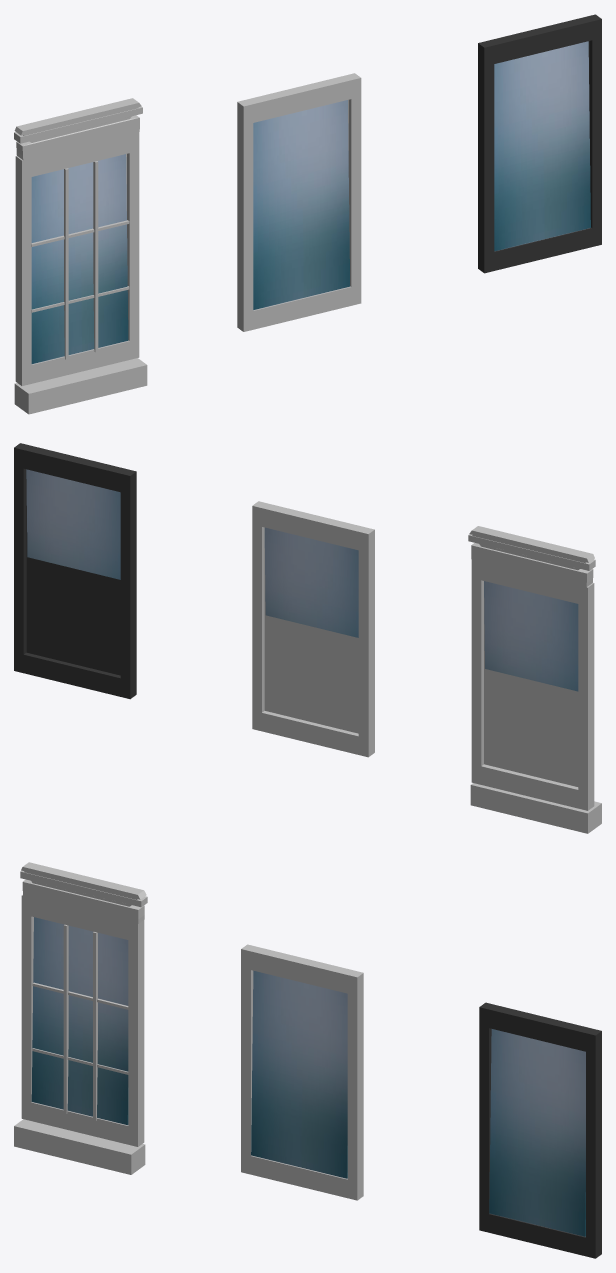
File: window_prop_painted 1.fbx
3 renders of one model, top to bottom at view 1: azimuth 30°, elevation 25°; view 2: azimuth 150°, elevation 25°; view 3: azimuth 330°, elevation 25°, orthographic.
Parts seen in each view (by area): view 1: window.001, window.002, window, Wood_Frame, Metal_Frame, Back up building.311, Back up building.313, Back up building.312, Back up building.309, Back up building.310; view 2: Wood_Frame, Metal_Frame, Back up building.311, window, window.002, window.001, Back up building.313, Back up building.312; view 3: window.001, window.002, window, Wood_Frame, Metal_Frame, Back up building.311, Back up building.313, Back up building.312, Back up building.310, Back up building.309.
Boxes of the visible parts, x1,y1,x2,y2 form: window.001: (253,100,350,310); window.002: (494,41,590,251); window: (31,154,128,364); Wood_Frame: (237,73,361,331); Metal_Frame: (478,14,601,273); Back up building.311: (15,132,139,385); Back up building.313: (14,98,142,160); Back up building.312: (14,358,147,414); Back up building.309: (93,161,98,352); Back up building.310: (64,168,68,359); Wood_Frame: (252,501,374,757); Metal_Frame: (14,443,136,699); Back up building.311: (471,559,594,810); window: (484,581,578,691); window.002: (26,469,120,579); window.001: (264,527,358,637); Back up building.313: (468,526,595,587); Back up building.312: (470,783,601,833); window.001: (251,970,347,1178); window.002: (489,1029,585,1236); window: (31,917,128,1125); Wood_Frame: (241,944,363,1200); Metal_Frame: (479,1002,601,1258); Back up building.311: (21,895,144,1146); Back up building.313: (20,862,147,923); Back up building.312: (14,1119,145,1174); Back up building.310: (63,924,68,1113); Back up building.309: (93,932,97,1120).
Bounding box in the file's own units: 5505 × 2511 × 232.
